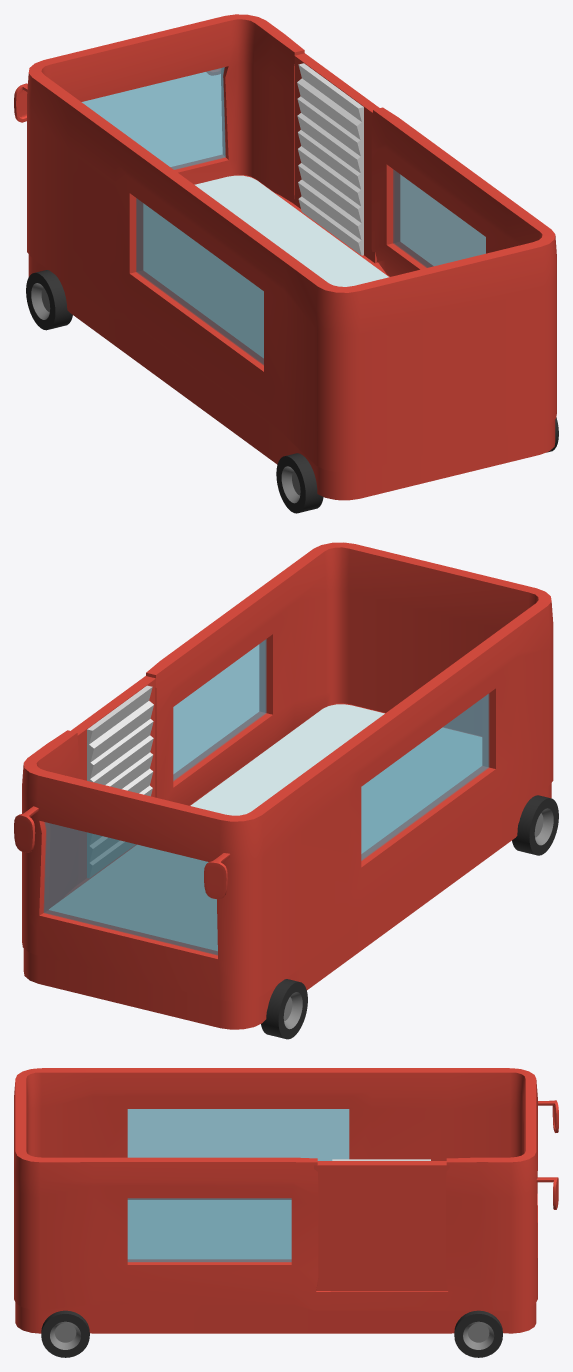
The model's file is Red-Bus.fbx.
The picture shows the model from 3 angles, top to bottom: view 1: azimuth 30°, elevation 25°; view 2: azimuth 150°, elevation 25°; view 3: azimuth 270°, elevation 25°; orthographic projection. The views are drawn at different scales.
Parts seen in each view (by area): view 1: Bus.002, Bus.003, Door-stairs, window.006, window.008, window.007, Tyres.003, Tyres; view 2: Bus.002, Bus.003, window.008, window.006, Door-stairs, window.007, Tyres.003, Tyres, Side-view_mirrors; view 3: Bus.002, Door-stairs, window.006, window.007, Bus.003, Tyres.001, Tyres.002, Side-view_mirrors.
Boxes of the visible parts, x1,y1,x2,y2 form: Bus.002: (27, 14, 556, 500); Bus.003: (143, 175, 388, 357); Door-stairs: (293, 53, 379, 263); window.006: (136, 198, 263, 365); window.008: (81, 67, 225, 169); window.007: (393, 169, 485, 267); Tyres.003: (276, 453, 323, 513); Tyres: (26, 270, 72, 330); Bus.002: (22, 542, 553, 1029); Bus.003: (49, 704, 481, 950); window.008: (43, 822, 217, 955); window.006: (361, 694, 489, 860); Door-stairs: (71, 676, 155, 885); window.007: (173, 639, 266, 780); Tyres.003: (512, 795, 558, 855); Tyres: (261, 979, 307, 1039); Side-view_mirrors: (14, 806, 230, 899); Bus.002: (14, 1068, 537, 1333); Door-stairs: (314, 1159, 449, 1291); window.006: (127, 1109, 349, 1160); window.007: (127, 1198, 291, 1262); Bus.003: (128, 1200, 291, 1258); Tyres.001: (454, 1310, 502, 1357); Tyres.002: (41, 1310, 89, 1357); Side-view_mirrors: (536, 1100, 558, 1209).
Bounding box in the file's own units: 224 × 198 × 507.
